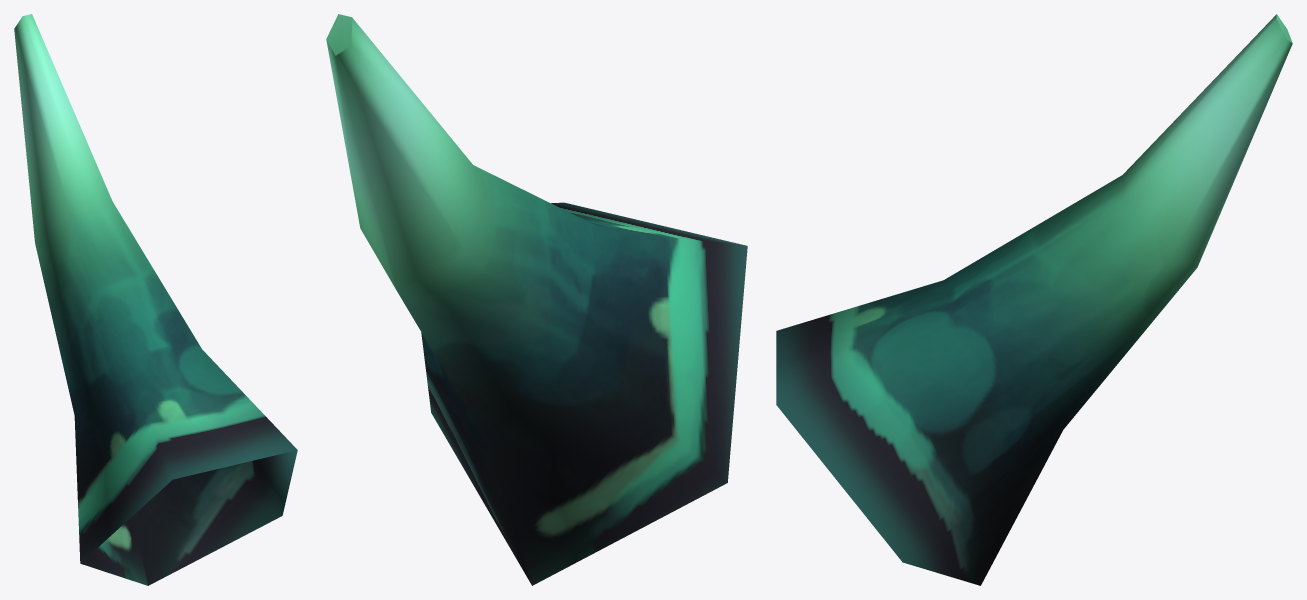
The model's file is SK_Tank_Evolution_PIQUES2.FBX.
3 renders of one model, left to right at view 1: azimuth 30°, elevation 25°; view 2: azimuth 150°, elevation 25°; view 3: azimuth 270°, elevation 25°, orthographic. The views are drawn at different scales.
Parts seen in each view (by area): view 1: Pelvis; view 2: Pelvis; view 3: Pelvis.
Boxes of the visible parts, x1,y1,x2,y2 form: Pelvis: (14, 14, 297, 585); Pelvis: (326, 14, 747, 585); Pelvis: (776, 14, 1292, 585).
Bounding box in the file's own units: 32.83 × 74.29 × 60.89.
